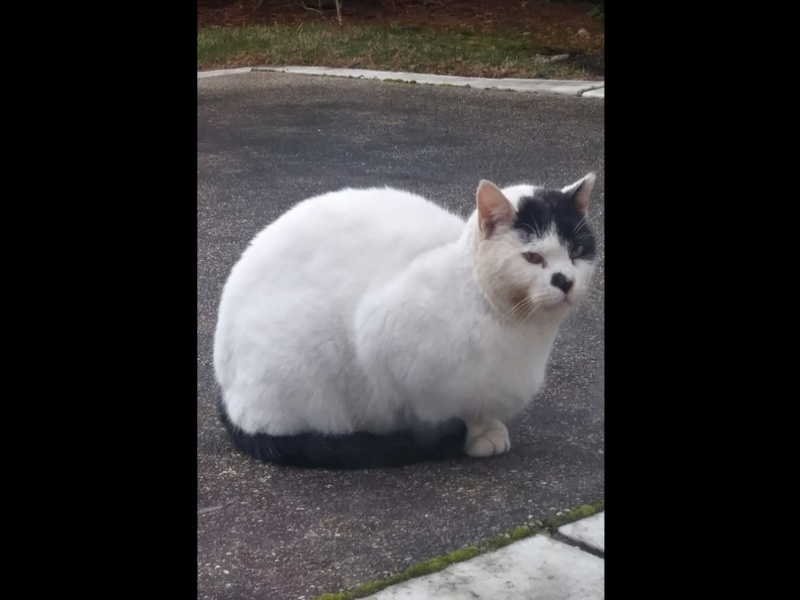cat: (211, 145, 598, 463)
